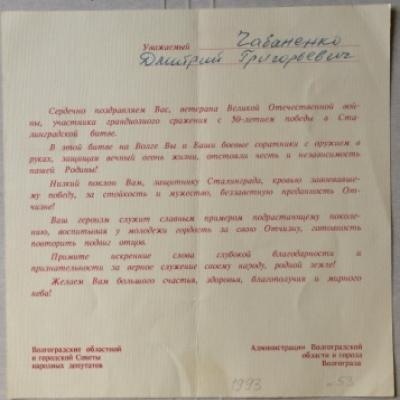document: (7, 9, 392, 399)
